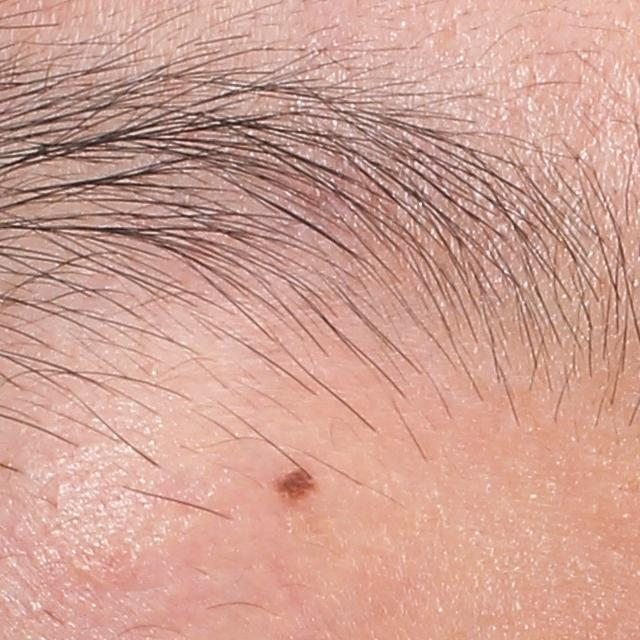nevus: (263, 459, 324, 507)
